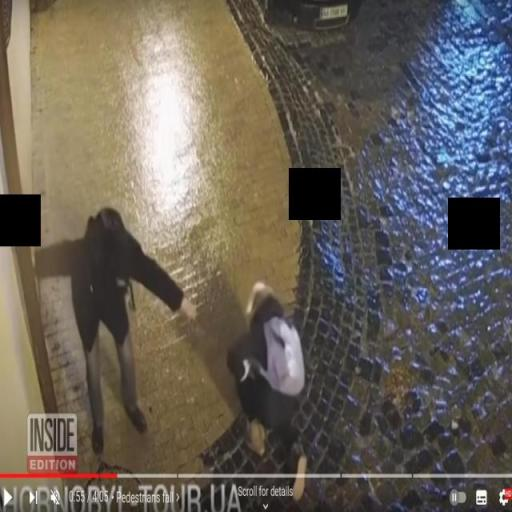Fall: (223, 274, 309, 501)
